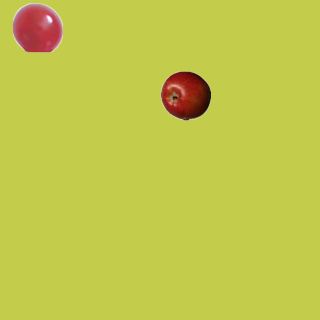Apple Braeburn: (160, 70, 210, 120)
Redcurrant: (12, 2, 62, 52)
